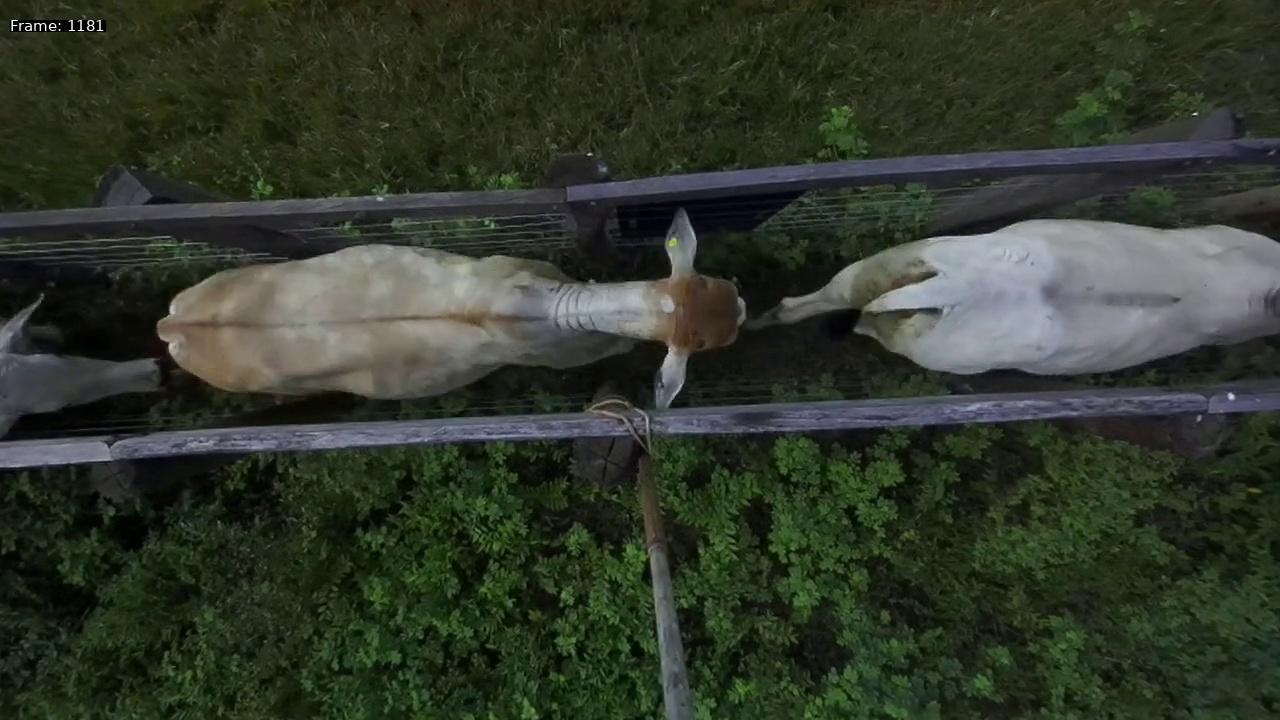Dorso: (167, 237, 576, 406)
cattle: (150, 187, 763, 416)
